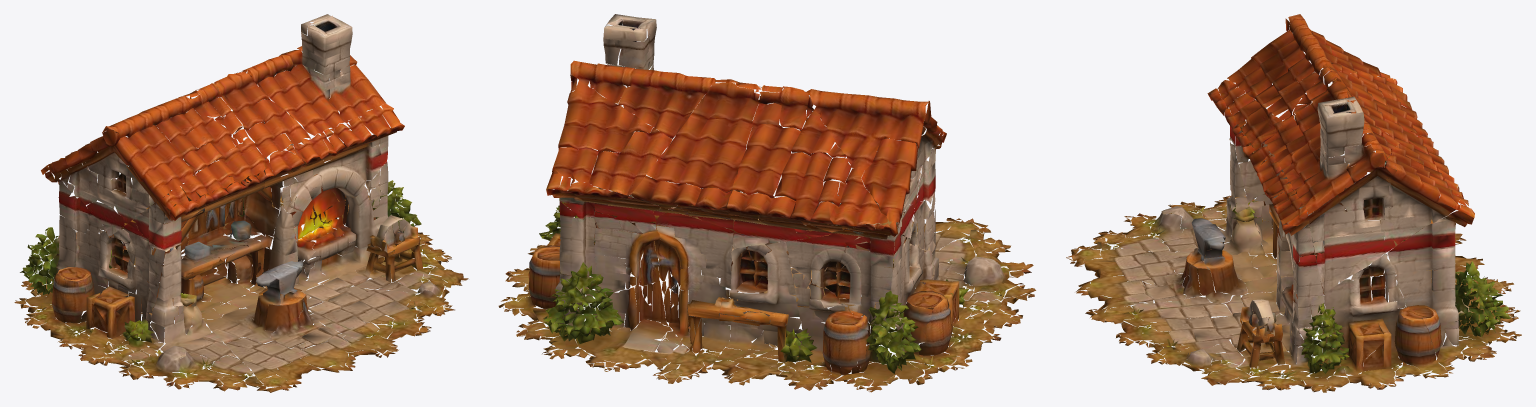
Rendered from artisanat_t3.glb.
3 views of the same model, side by side, from view 1: azimuth 30°, elevation 25°; view 2: azimuth 150°, elevation 25°; view 3: azimuth 270°, elevation 25° (orthographic). The views are drawn at different scales.
Parts seen in each view (by area): view 1: artisanat_t3; view 2: artisanat_t3; view 3: artisanat_t3.
Part boxes in pixels (bbox=[...]): artisanat_t3: bbox=[14, 14, 468, 392]; artisanat_t3: bbox=[498, 14, 1035, 392]; artisanat_t3: bbox=[1066, 14, 1521, 392].
Bounding box in the file's own units: 0.9967 × 0.5578 × 0.958.
1 material, 1 textured.
